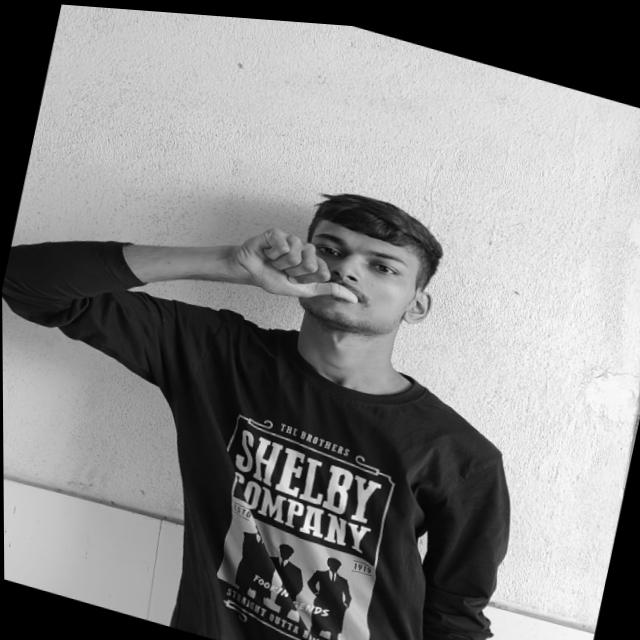Drink: (225, 214, 370, 324)
